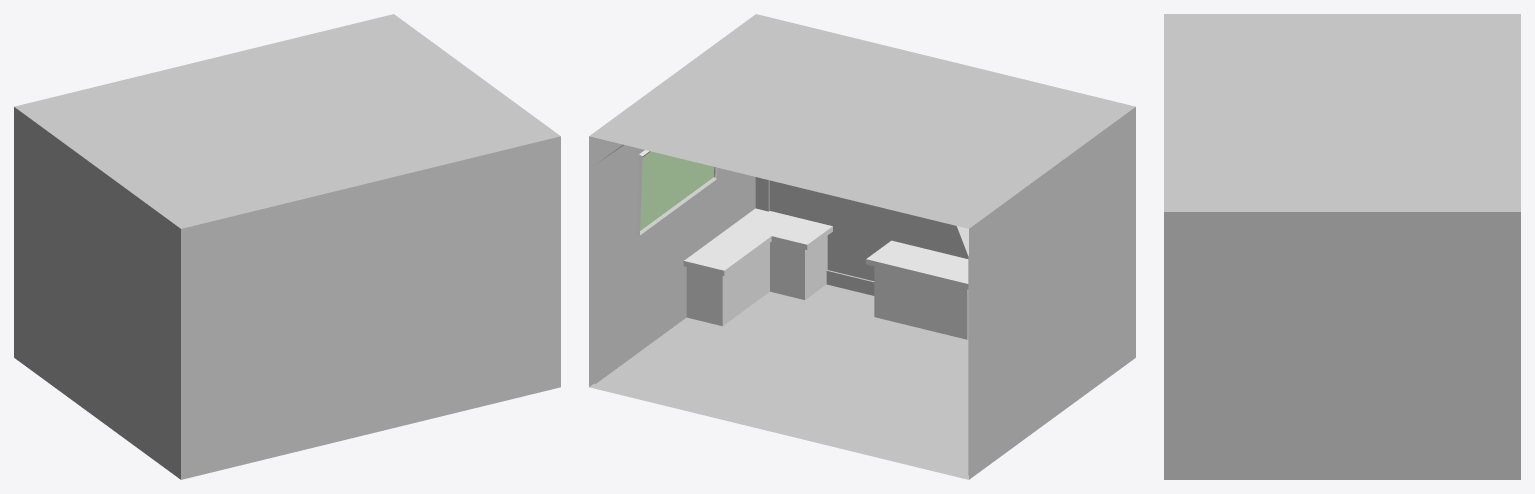
File: SM_IntroRoom.fbx
The picture shows the model from 3 angles, left to right: view 1: azimuth 30°, elevation 25°; view 2: azimuth 150°, elevation 25°; view 3: azimuth 270°, elevation 25°; orthographic projection. The views are drawn at different scales.
Visible parts, largest first — view 1: SM_KidRoom_WallsRoofGround.001; view 2: SM_KidRoom_WallsRoofGround.001, SM_Corner, SM_Cortable, SM_Sceen_Left, SM_FlatScreen_Left; view 3: SM_KidRoom_WallsRoofGround.001.
Part boxes in pixels (x1=…): SM_KidRoom_WallsRoofGround.001: x1=14, y1=14, x2=560, y2=479; SM_KidRoom_WallsRoofGround.001: x1=589, y1=14, x2=1135, y2=479; SM_Corner: x1=683, y1=208, x2=832, y2=326; SM_Cortable: x1=866, y1=240, x2=968, y2=339; SM_Sceen_Left: x1=640, y1=151, x2=714, y2=230; SM_FlatScreen_Left: x1=636, y1=150, x2=717, y2=237; SM_KidRoom_WallsRoofGround.001: x1=1164, y1=14, x2=1520, y2=479.
Bounding box in the file's own units: 4.07 × 2.57 × 3.1.
